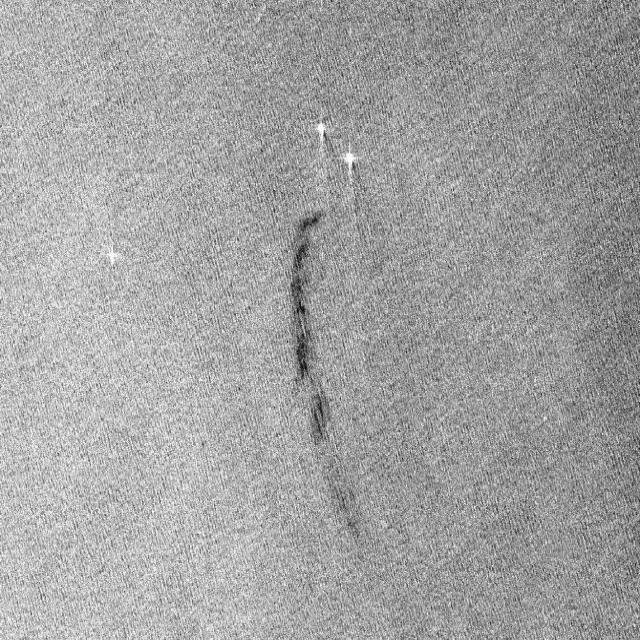oil-spill: (285, 207, 369, 539), (352, 161, 363, 198), (321, 131, 334, 158)
ship: (341, 136, 356, 178), (312, 106, 327, 144), (105, 240, 119, 271)
